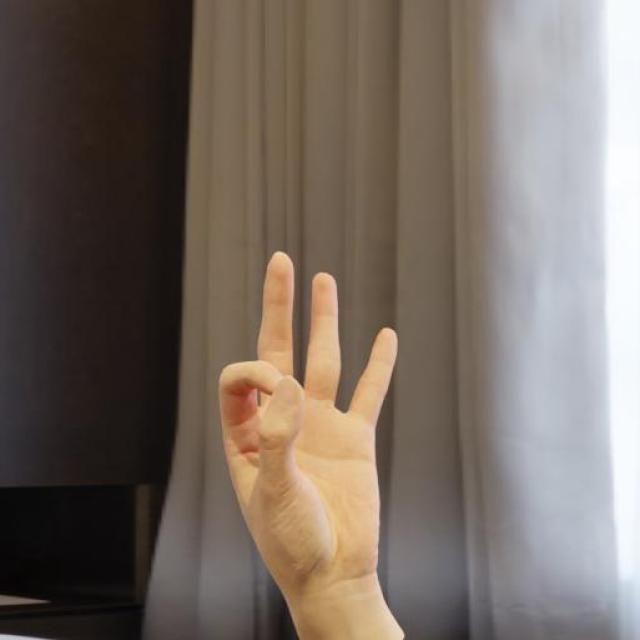F: (218, 247, 404, 582)
